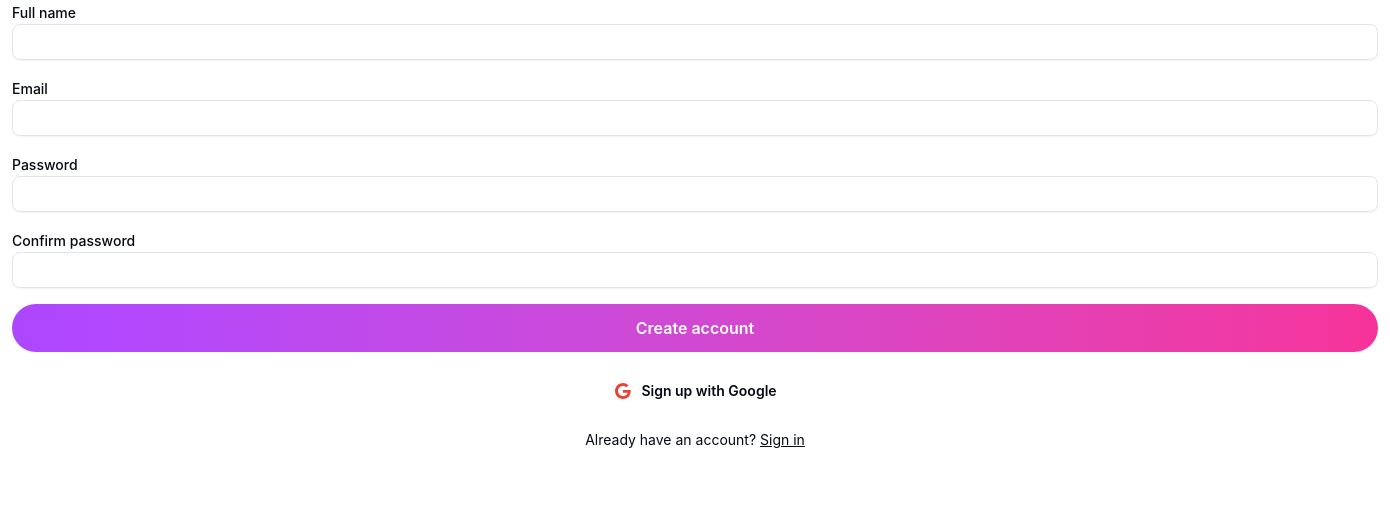
Scenario: RegisterForm › validates password length and confirmation
This screenshot has width=1390, height=505.
Type "Jane" into the field labelled "Full name" at (695, 42), box [12,24,1378,60]
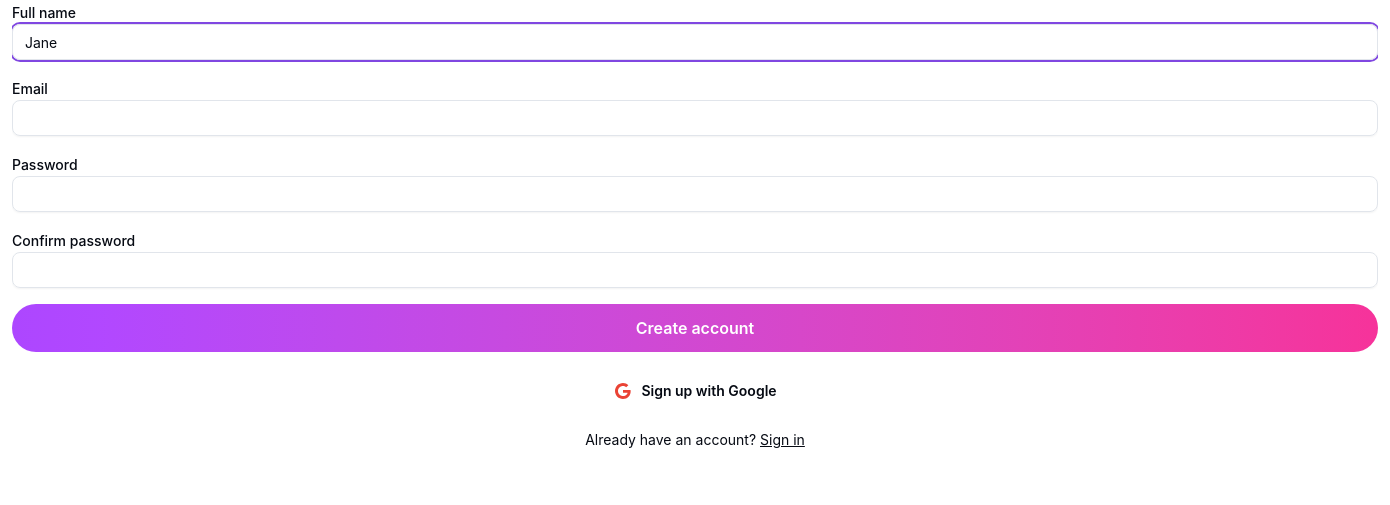
Type "jane@x.com" into the field labelled "Email" at (695, 118), box [12,100,1378,136]
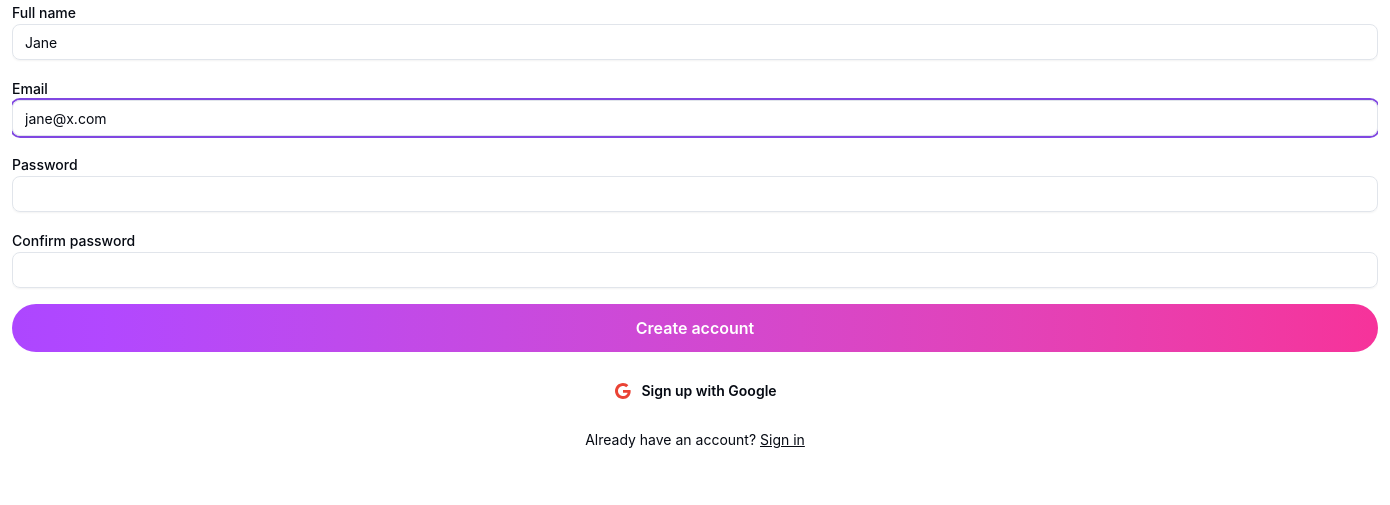
Type "short" into the password field labelled "Password" at (695, 194), box [12,176,1378,212]
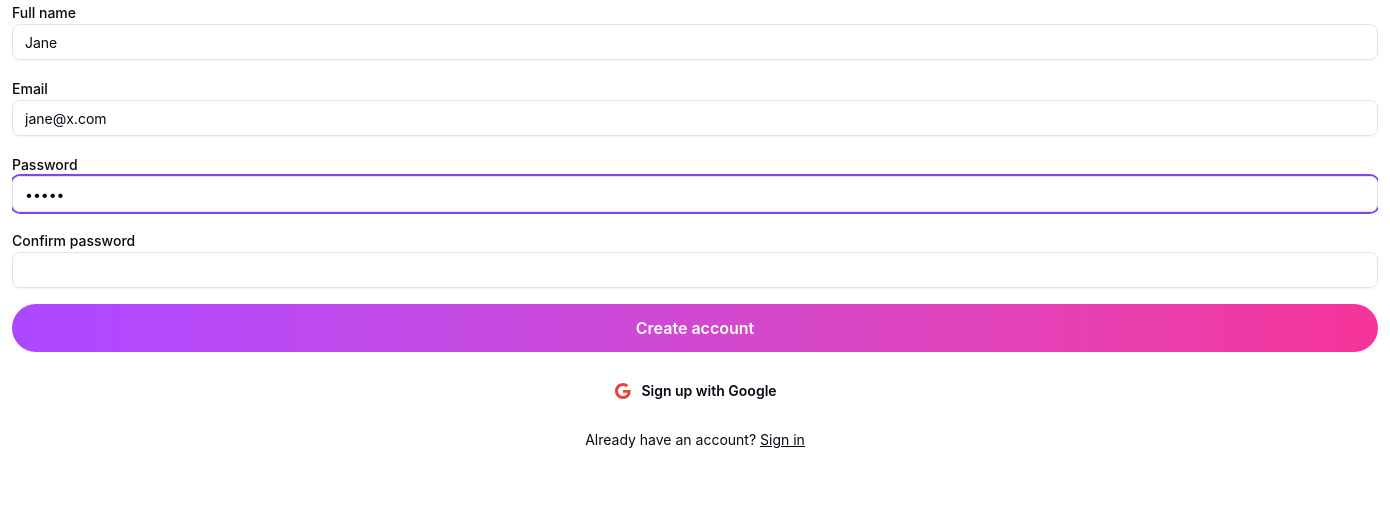
Type "other" into the password field labelled "Confirm password" at (695, 270), box [12,252,1378,288]
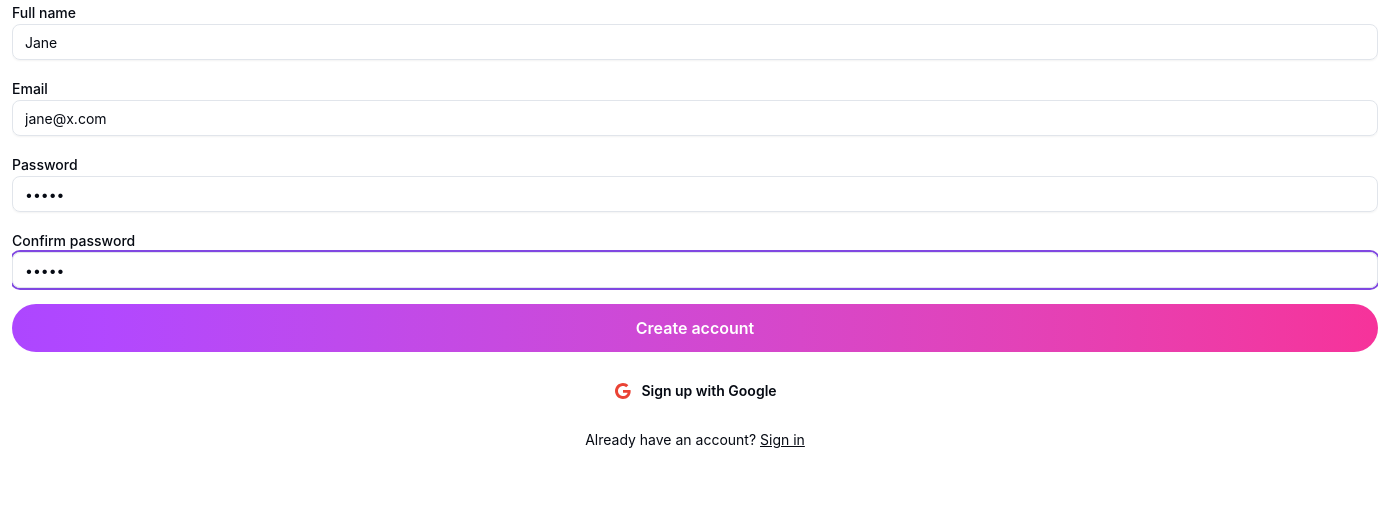
Click the button "Create account" at (695, 328), box [12,304,1378,352]
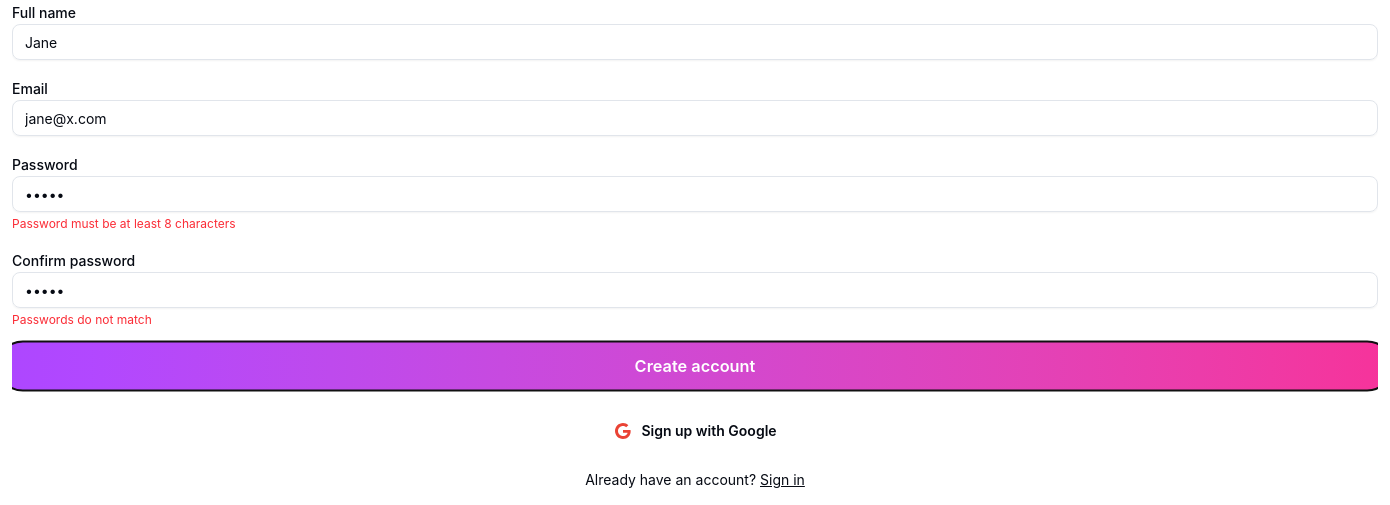
Now the text "Password must be at least 8 characters" is shown, box [12,216,236,231]
Now the text "Passwords do not match" is shown, box [12,312,152,327]
